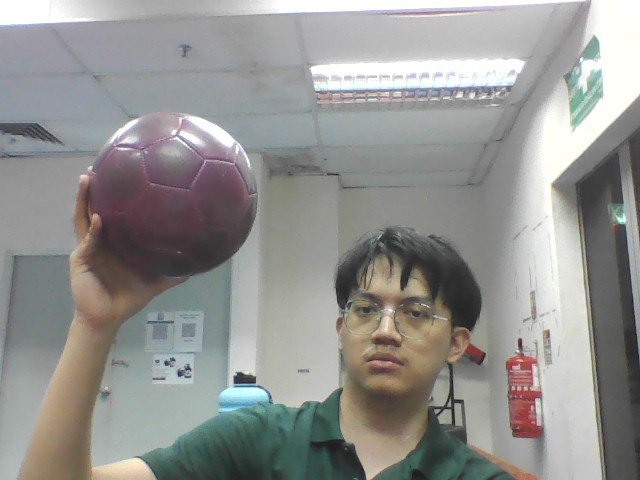Purple: (91, 112, 257, 276)
